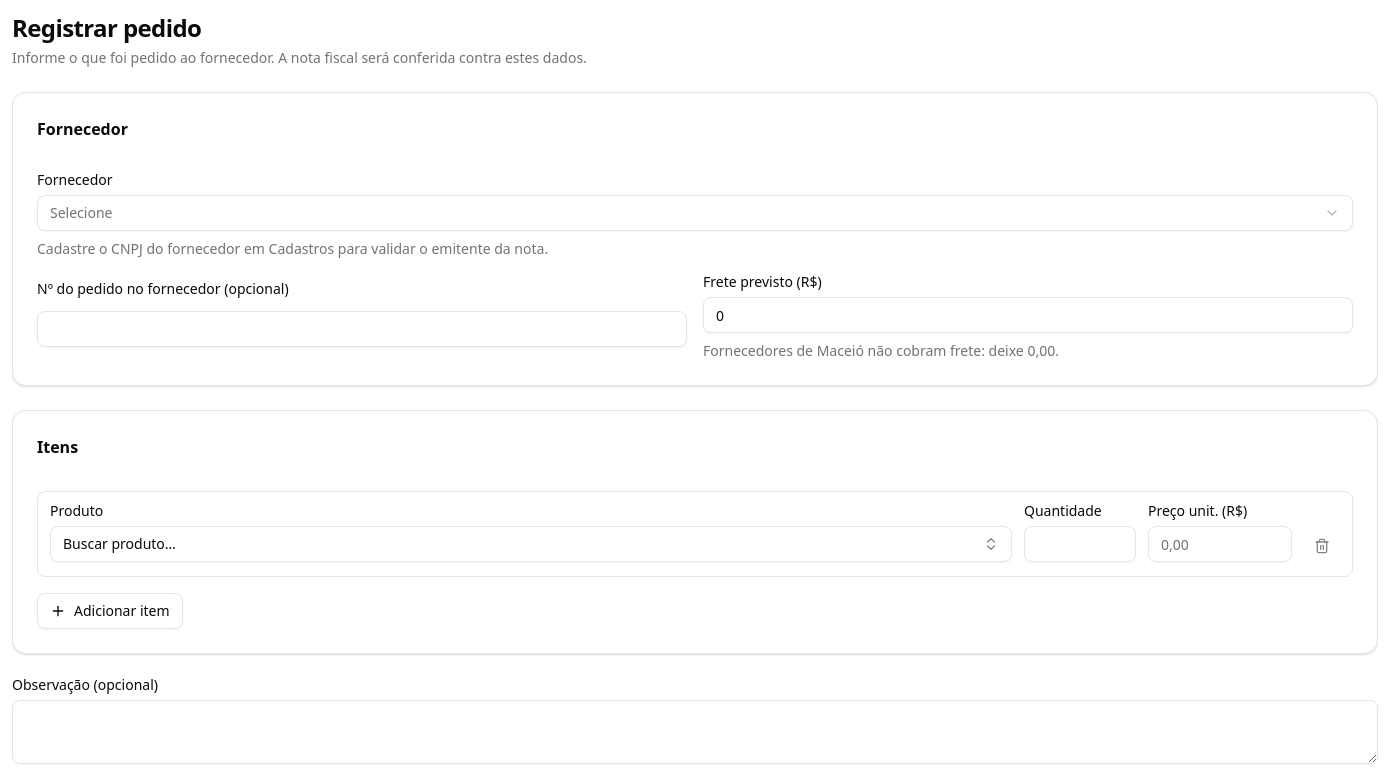
Registrar pedido › lista fornecedores sem CNPJ com aviso
Click the dropdown named "fornecedor" at [81, 212], box top-left (37, 195), bottom-right (1353, 231)
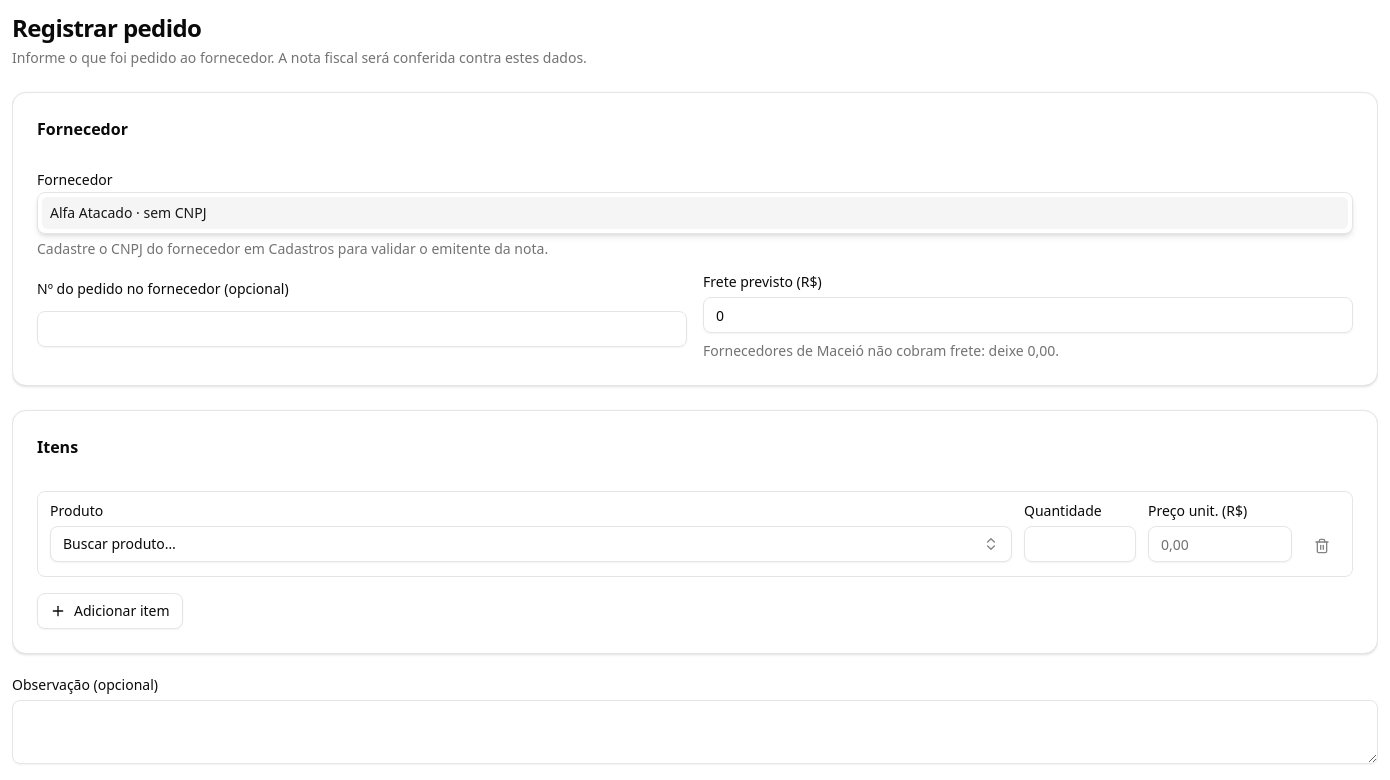
Now the text "Alfa Atacado · sem CNPJ" is shown, box top-left (50, 203), bottom-right (206, 223)
